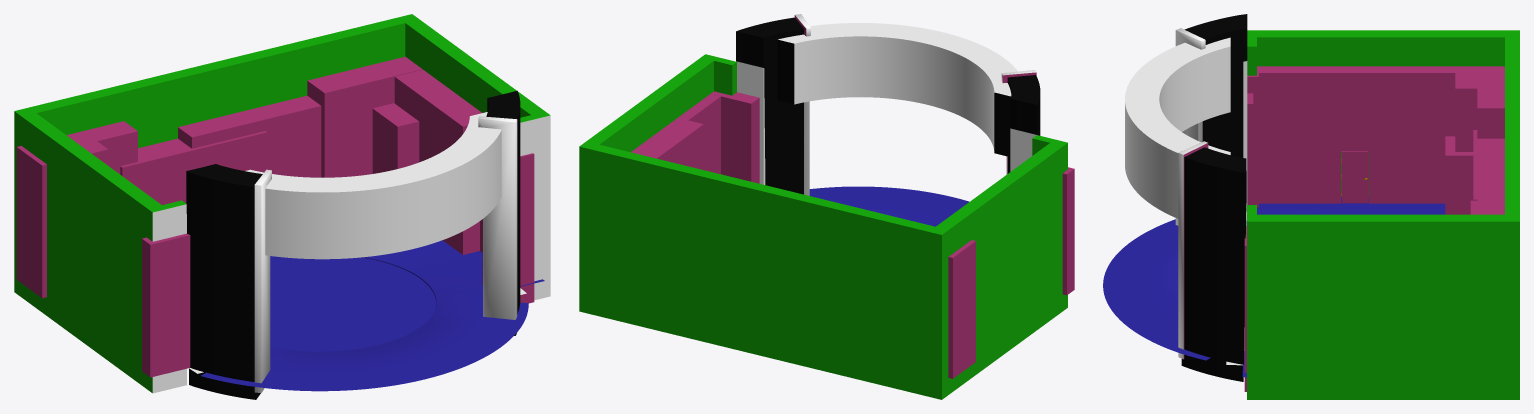
Rendered from StudioTheme_01_Mesh.fbx.
3 views of the same model, side by side, from view 1: azimuth 30°, elevation 25°; view 2: azimuth 150°, elevation 25°; view 3: azimuth 270°, elevation 25° (orthographic). The views are drawn at different scales.
Parts seen in each view (by area): view 1: studioTest2; view 2: studioTest2; view 3: studioTest2.
Part boxes in pixels (x1,y1,x2,y2): studioTest2: [14, 14, 550, 399]; studioTest2: [579, 14, 1074, 399]; studioTest2: [1103, 14, 1519, 399].
Bounding box in the file's own units: 1638 × 845 × 1491.
